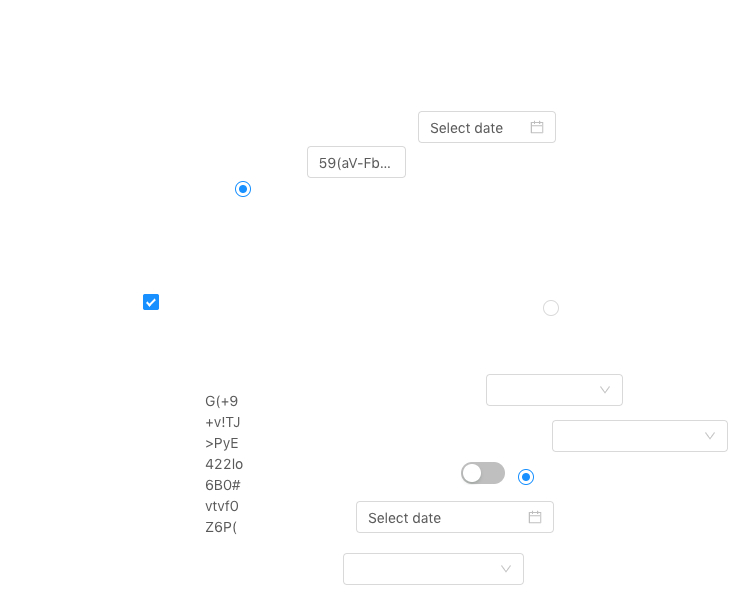Checkbox: (143, 291, 159, 312)
DatePicker: (356, 501, 554, 533), (418, 111, 556, 143)
Input: (307, 146, 406, 178)
Radio: (518, 466, 534, 486), (543, 297, 559, 317), (235, 178, 251, 198)
Select: (343, 553, 524, 585), (552, 420, 728, 452), (486, 374, 623, 406)
Switch: (461, 461, 505, 485)
Text: (205, 390, 245, 542)
